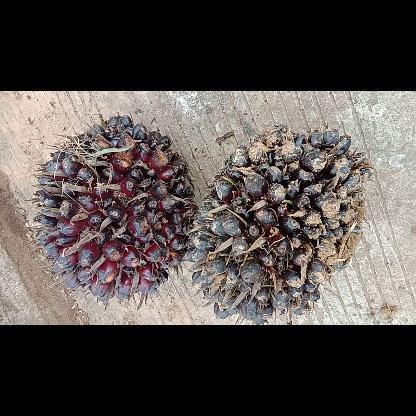TBS mentah: (184, 126, 376, 324), (26, 112, 198, 304)
